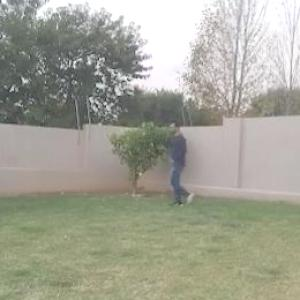follow: (166, 117, 189, 210)
